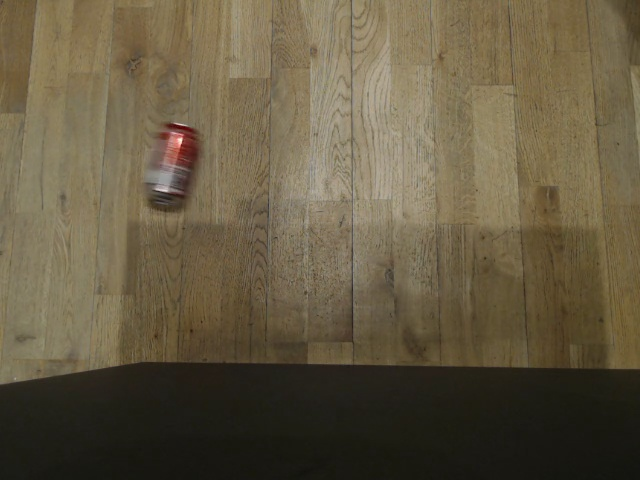coke: (142, 121, 199, 207)
